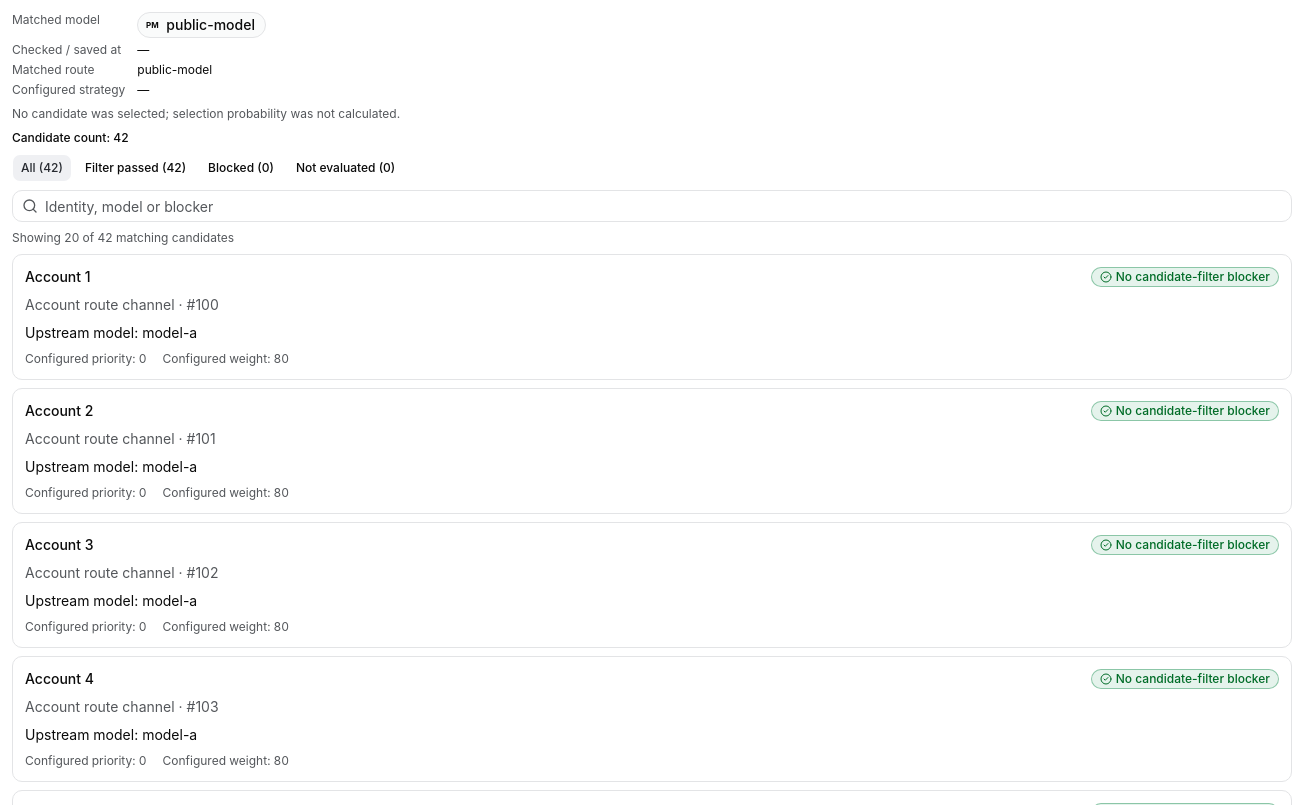
Test case: diagnostic candidate inventory › searches the entire long inventory before paging its visible candidates
The width and height of the screenshot is (1304, 805).
Type "Account 42" into the field named "Find candidates".
click(652, 206); type("Account 42")  # box [12, 190, 1292, 222]
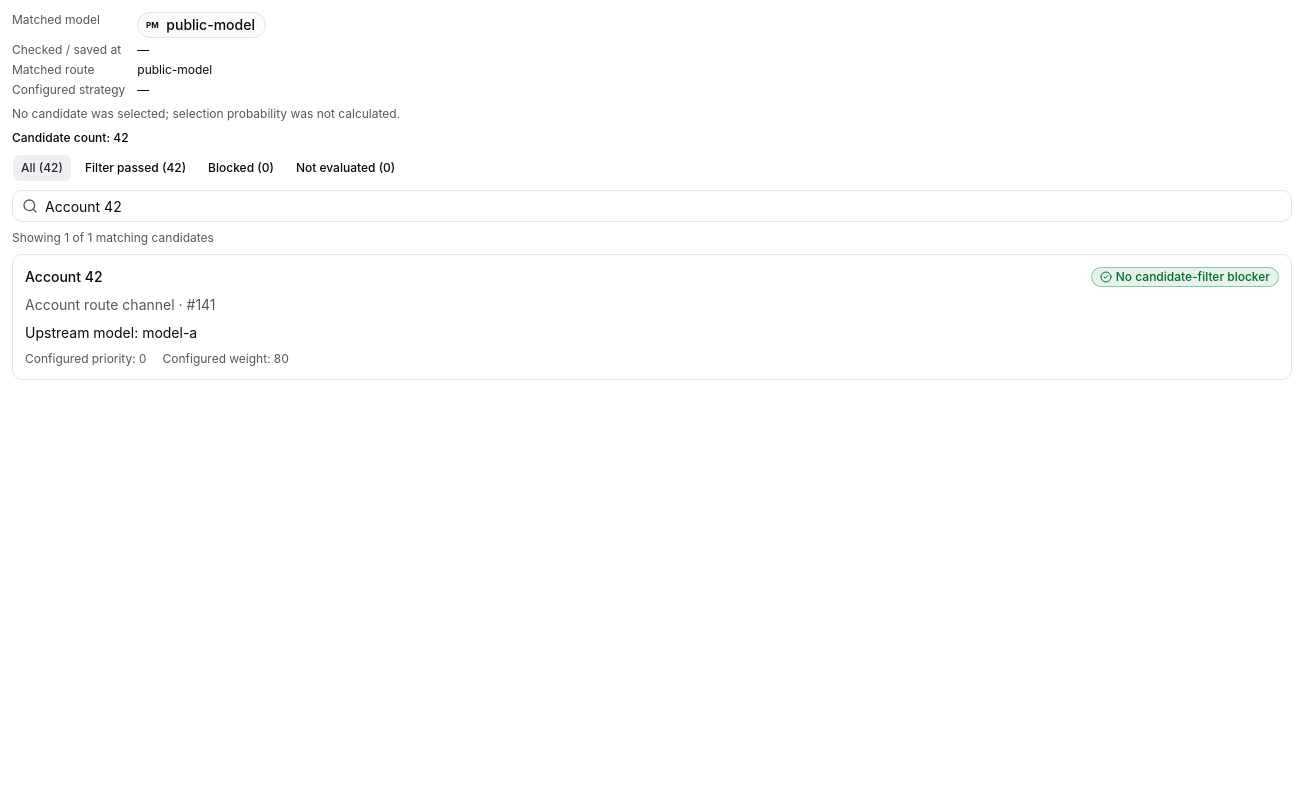
Check: the text "Account 42" is shown, box [25, 267, 103, 287]
Check: the number of list items is 1, box [12, 254, 1292, 380]
